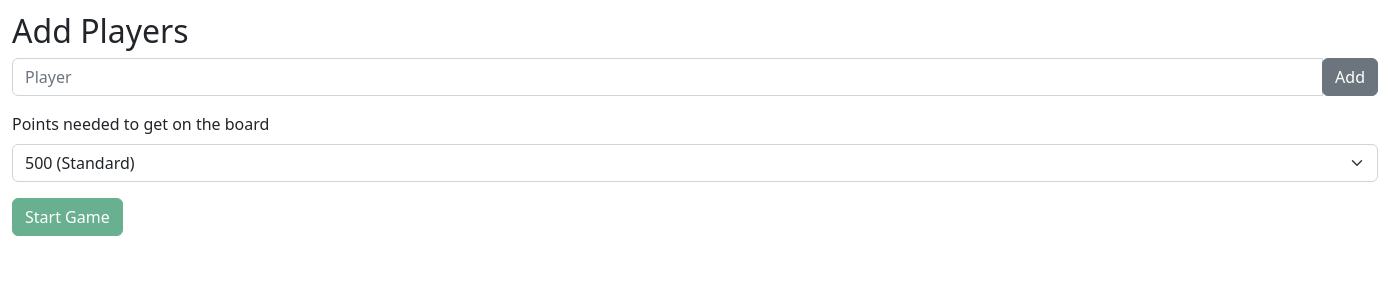
Scenario: Setup › displays added players
In the field with placeholder "Player": {"x": 668, "y": 77} 12,58 -> 1323,96, type "Alice"
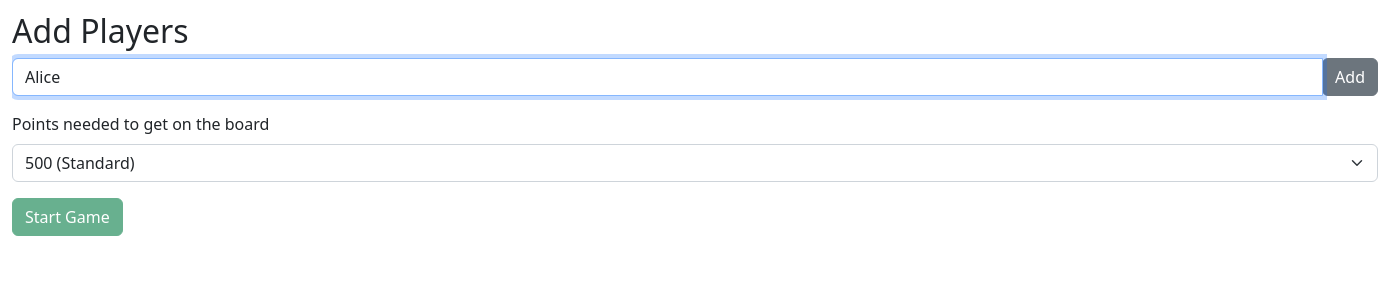
Click the button "Add": {"x": 1350, "y": 77} 1322,58 -> 1378,96
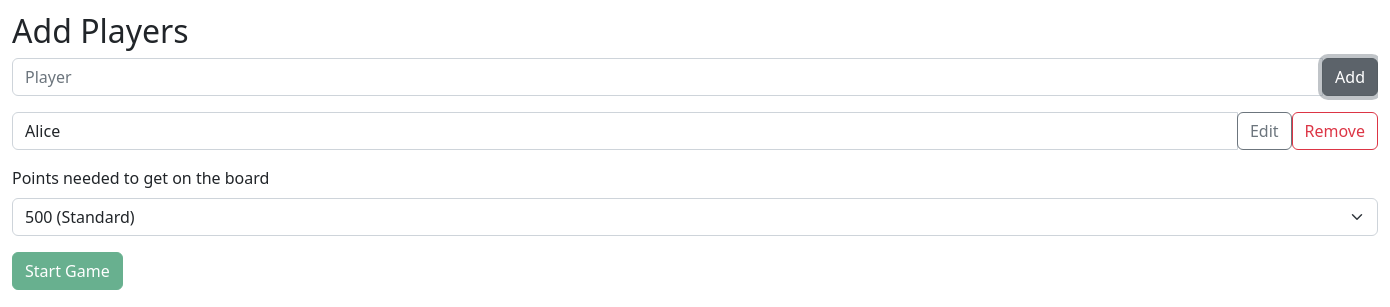
Now the field showing "Alice" is shown, box 12,112 -> 1238,150
